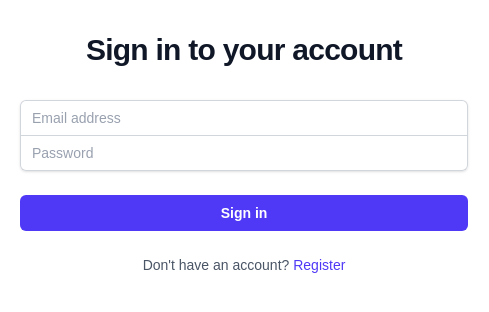
Test: Login page › failed login › should display the error message from the server
Type "alice@example.com" into the field with placeholder "Email address". click: (244, 118)
box: [20, 100, 468, 136]
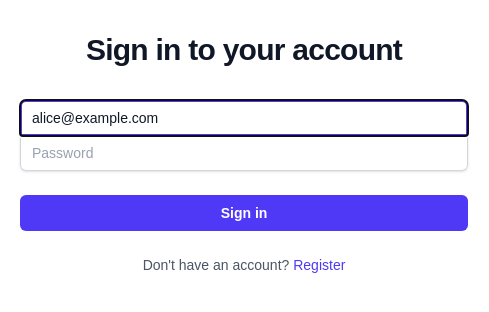
Type "wrongpassword" into the password field with placeholder "Password". click: (244, 152)
box: [20, 134, 468, 170]
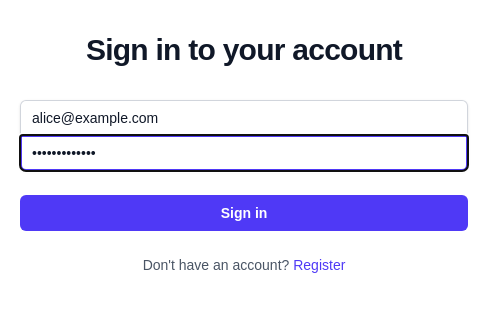
Click the button "Sign in". click: (244, 212)
box: [20, 194, 468, 230]
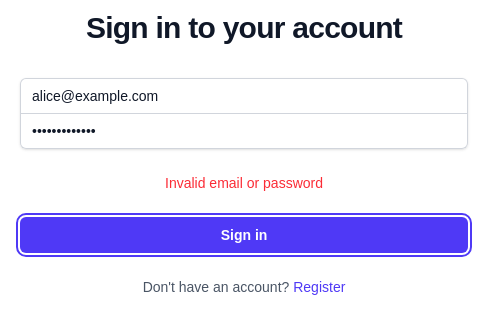
Check: the text "Invalid email or password" is shown, box [165, 174, 323, 190]
